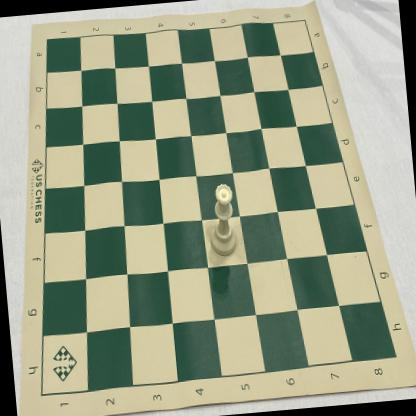queen: (205, 182, 239, 258)
